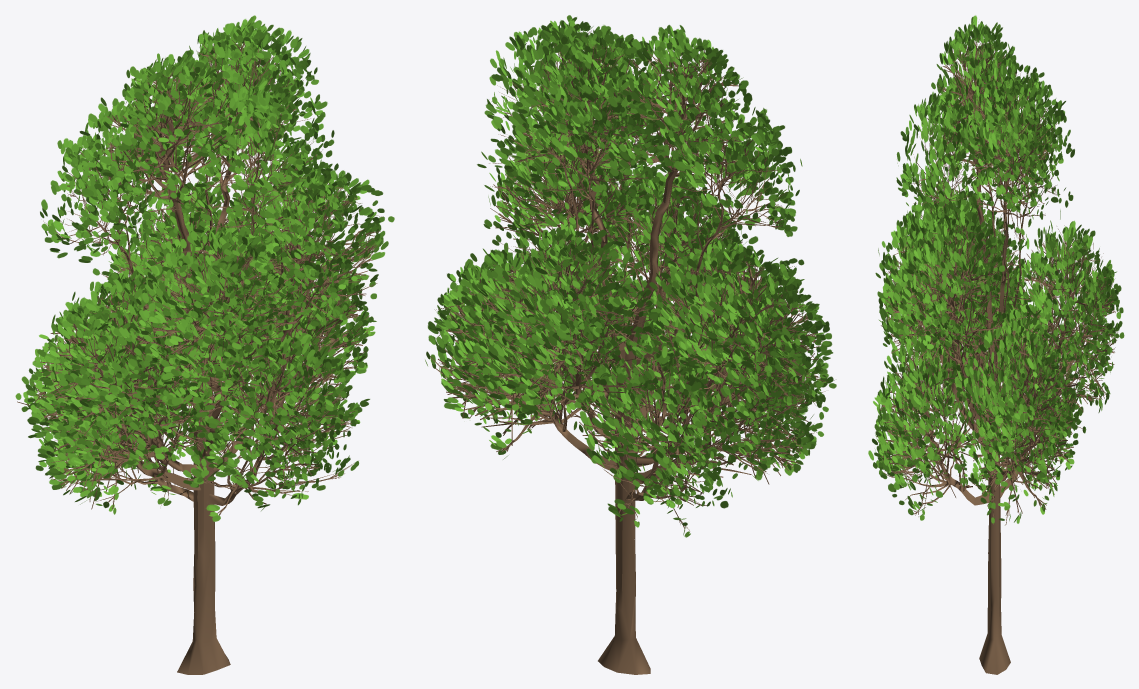
Rendered from escena-arbol-2.glb.
The picture shows the model from 3 angles, left to right: view 1: azimuth 30°, elevation 25°; view 2: azimuth 150°, elevation 25°; view 3: azimuth 270°, elevation 25°; orthographic projection. The views are drawn at different scales.
Visible parts, largest first — view 1: Hojas1.006, Hojas1, Tronco1, Hojas1.002, Hojas1.003; view 2: Hojas1.006, Hojas1, Tronco1, Hojas1.002, Hojas1.003; view 3: Hojas1.006, Hojas1, Tronco1, Hojas1.002, Hojas1.003.
Boxes of the visible parts, x1=… form: Hojas1.006: x1=21, y1=15, x2=394, y2=521; Hojas1: x1=15, y1=22, x2=381, y2=515; Tronco1: x1=43, y1=41, x2=384, y2=674; Hojas1.002: x1=17, y1=40, x2=369, y2=515; Hojas1.003: x1=44, y1=43, x2=357, y2=515; Hojas1.006: x1=425, y1=15, x2=833, y2=537; Hojas1: x1=426, y1=20, x2=836, y2=519; Tronco1: x1=480, y1=43, x2=822, y2=674; Hojas1.002: x1=430, y1=30, x2=834, y2=530; Hojas1.003: x1=447, y1=35, x2=814, y2=525; Hojas1.006: x1=873, y1=15, x2=1123, y2=522; Hojas1: x1=868, y1=17, x2=1124, y2=523; Tronco1: x1=900, y1=41, x2=1117, y2=674; Hojas1.002: x1=876, y1=36, x2=1076, y2=525; Hojas1.003: x1=885, y1=39, x2=1084, y2=512.
Size of the model in its own units: 0.0104 by 0.0172 by 0.00648.
2 materials, 1 textured.
